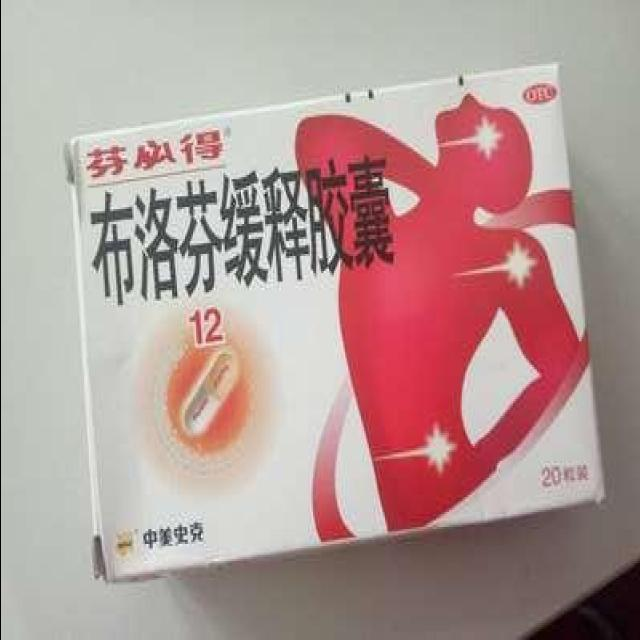-Recyclables - paper box-: (67, 62, 608, 582)
